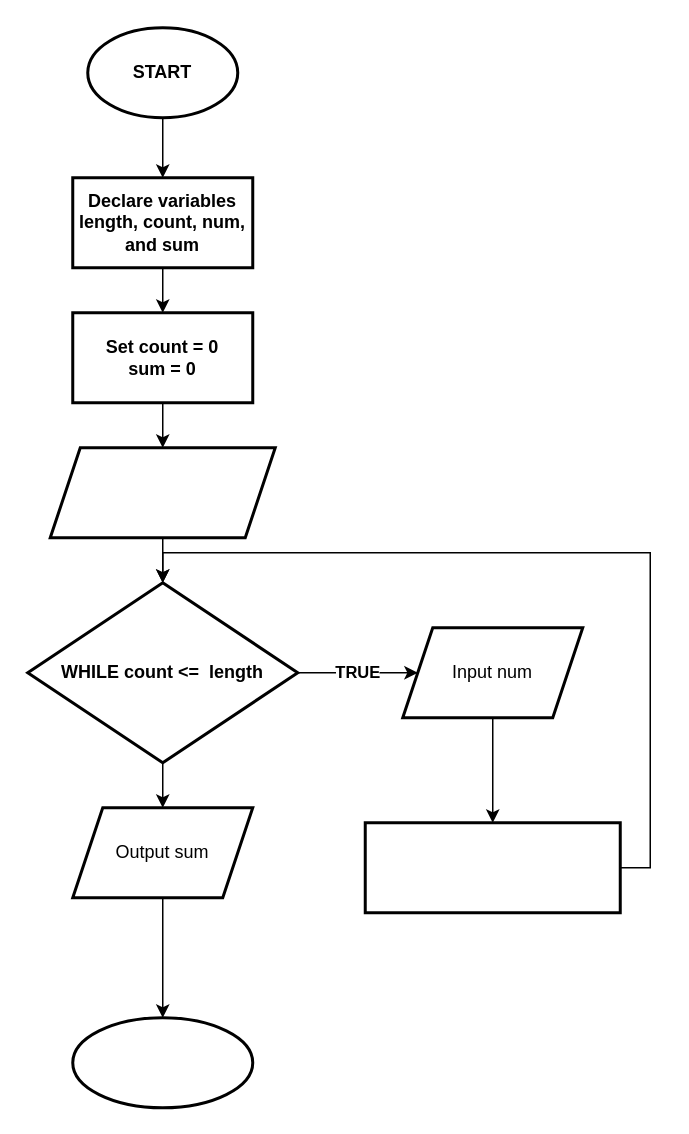
Image size: 689x1134. Some labels were removed from this diagram. Each missing label, with the box of its shape:
END: (70, 1016, 254, 1108)
Input length: (48, 446, 276, 538)
sum = sum + (num * num) count = count + 1: (363, 820, 621, 914)
